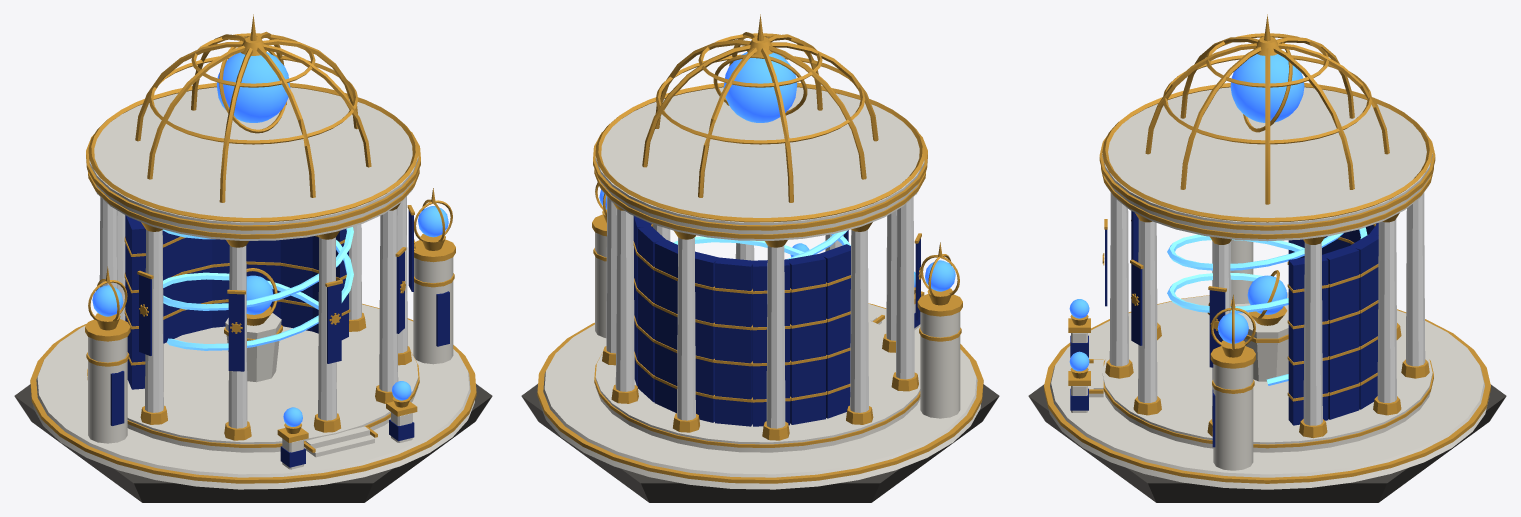
Rendered from zeus_structure_cloud_archive.glb.
3 views of the same model, side by side, from view 1: azimuth 30°, elevation 25°; view 2: azimuth 150°, elevation 25°; view 3: azimuth 270°, elevation 25° (orthographic).
Parts seen in each view (by area): view 1: zeus_structure_cloud_archive; view 2: zeus_structure_cloud_archive; view 3: zeus_structure_cloud_archive.
Boxes of the visible parts, x1,y1,x2,y2 form: zeus_structure_cloud_archive: (14, 14, 492, 502); zeus_structure_cloud_archive: (521, 14, 999, 502); zeus_structure_cloud_archive: (1028, 14, 1506, 502).
Bounding box in the file's own units: 1.57 × 1.58 × 1.68.
1 material, 1 textured.
